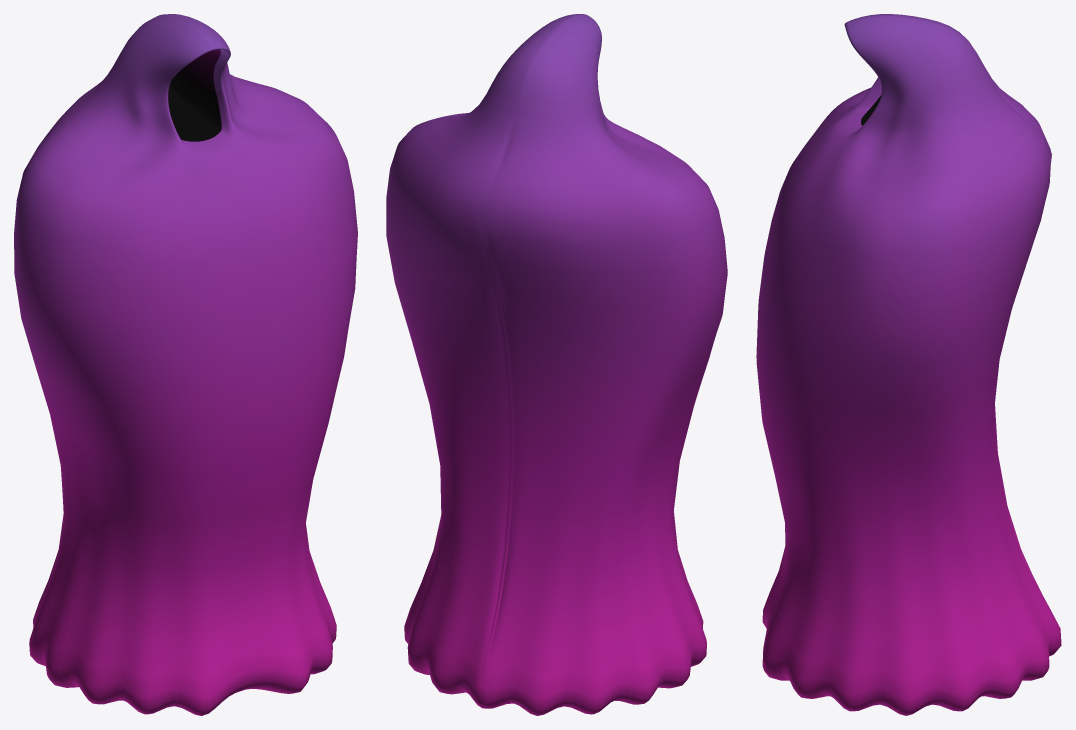
The model's file is Tänzer2.glb.
3 views of the same model, side by side, from view 1: azimuth 30°, elevation 25°; view 2: azimuth 150°, elevation 25°; view 3: azimuth 270°, elevation 25° (orthographic).
Parts seen in each view (by area): view 1: MaskedOne; view 2: MaskedOne; view 3: MaskedOne.
Boxes of the visible parts, <box> form: MaskedOne: <box>14,14,357,715</box>; MaskedOne: <box>386,14,727,715</box>; MaskedOne: <box>756,14,1061,715</box>.
Size of the model in its own units: 0.5012 by 0.9598 by 0.4128.
Materials: 1 (1 with a texture image).
